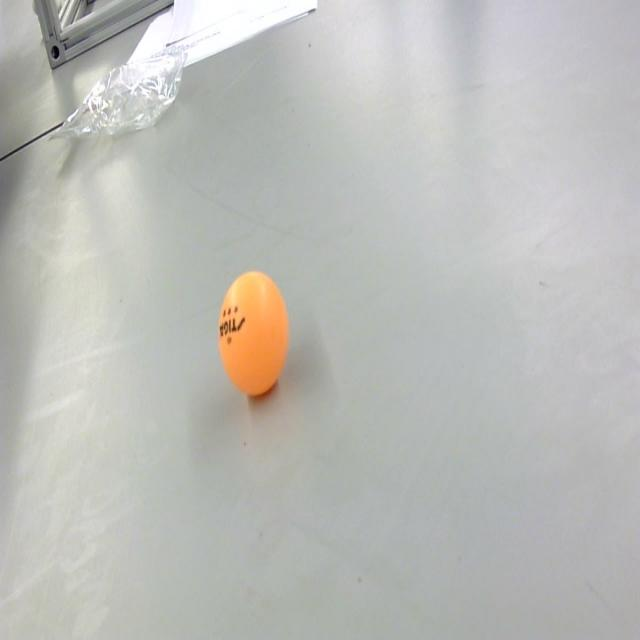ball: (217, 265, 290, 404)
